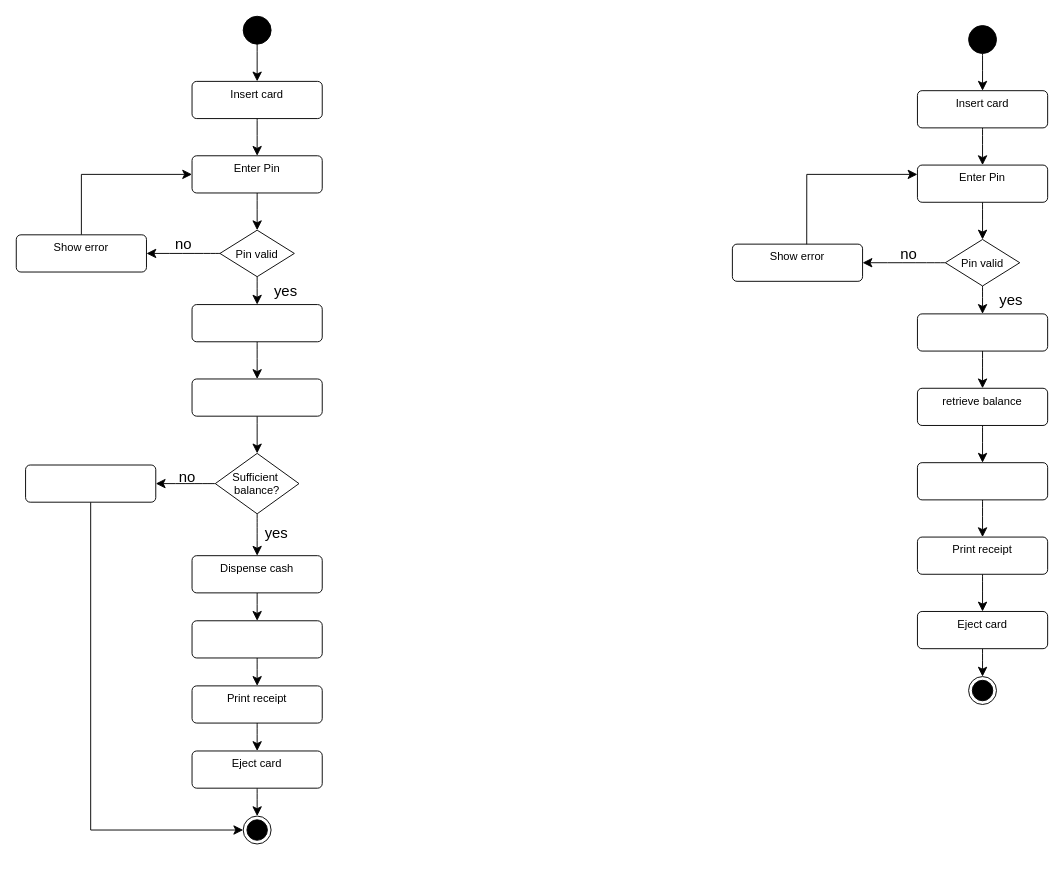
Some shapes in this 1064 by 870 pixel diagram are drawn without their labels. Here are the shapes that lost their labels. From the top down, the centre of each, then its label:
At point 256,323: "Select withdraw".
At point 982,332: "Select check balance".
At point 256,397: "Enter amount".
At point 90,483: "display insufficient balance".
At point 982,481: "Display balance".
At point 256,639: "Update balance".
